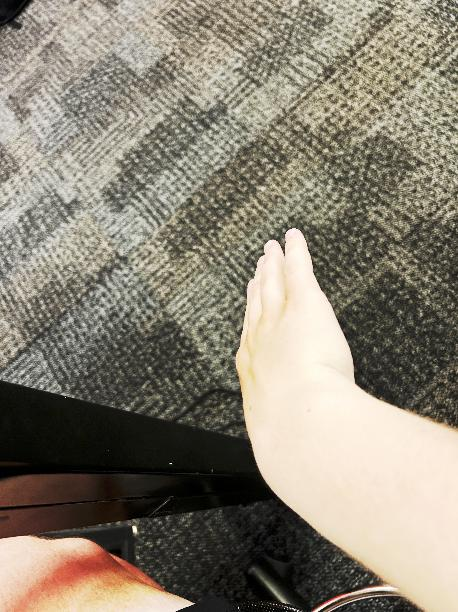Paper: (178, 208, 391, 528)
